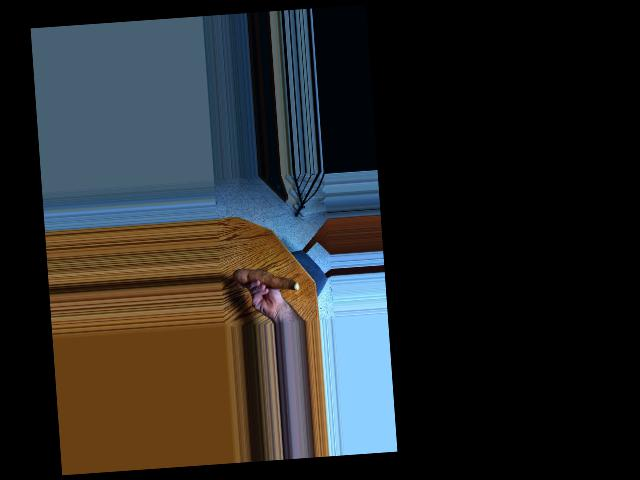sweet_potato: (235, 261, 301, 296)
